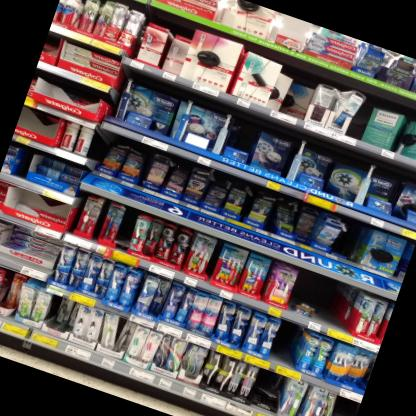empty_space: (300, 273, 362, 334), (13, 105, 60, 148), (334, 222, 368, 266), (269, 326, 296, 370)
